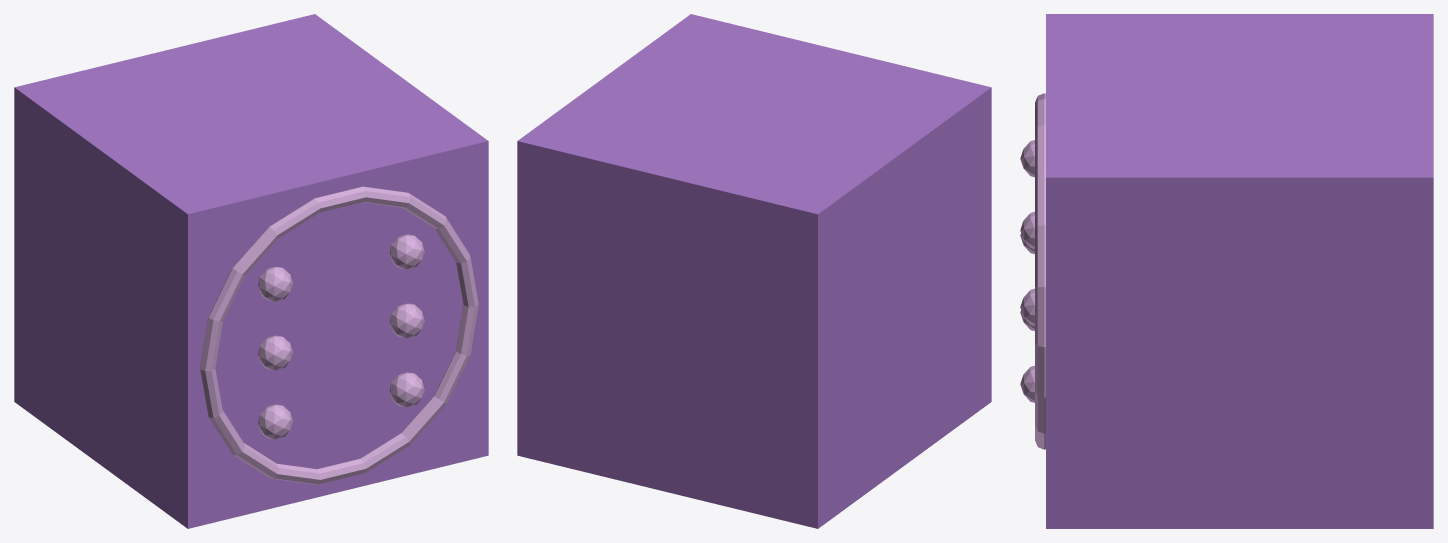
Rendered from kombo.glb.
The picture shows the model from 3 angles, left to right: view 1: azimuth 30°, elevation 25°; view 2: azimuth 150°, elevation 25°; view 3: azimuth 270°, elevation 25°; orthographic projection. The views are drawn at different scales.
Visible parts, largest first — view 1: world; view 2: world; view 3: world.
Part boxes in pixels (x1,y1,x2,y2): world: (14,14,488,528); world: (517,14,991,528); world: (1020,14,1433,528).
Bounding box in the file's own units: 1.05 × 1.05 × 1.12.
